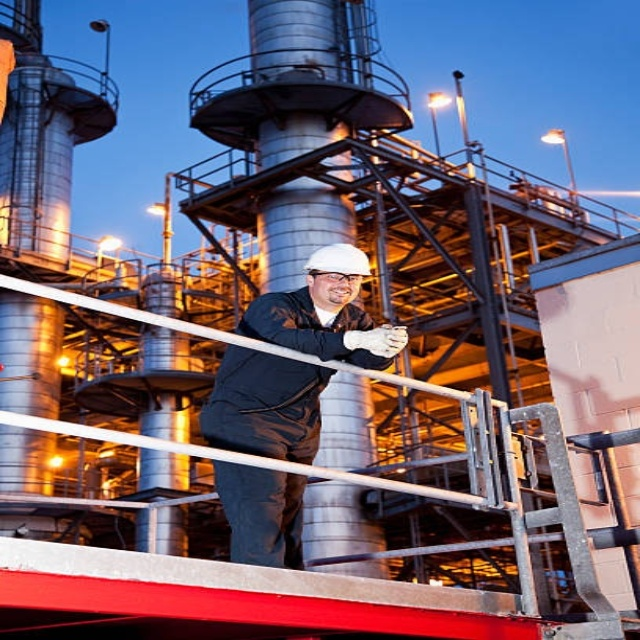Gafas: (313, 271, 367, 284)
Guantes: (344, 325, 409, 358)
Sin_mascara: (328, 287, 352, 296)
